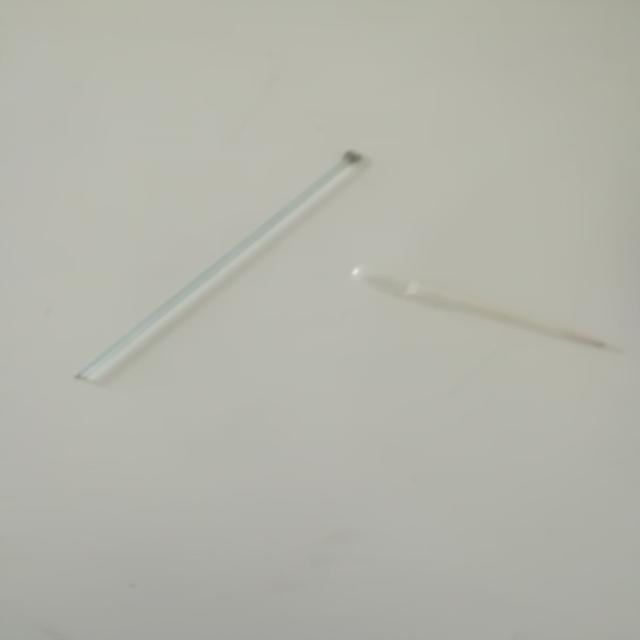Glass_Rod: (53, 123, 405, 392), (323, 241, 611, 381)
